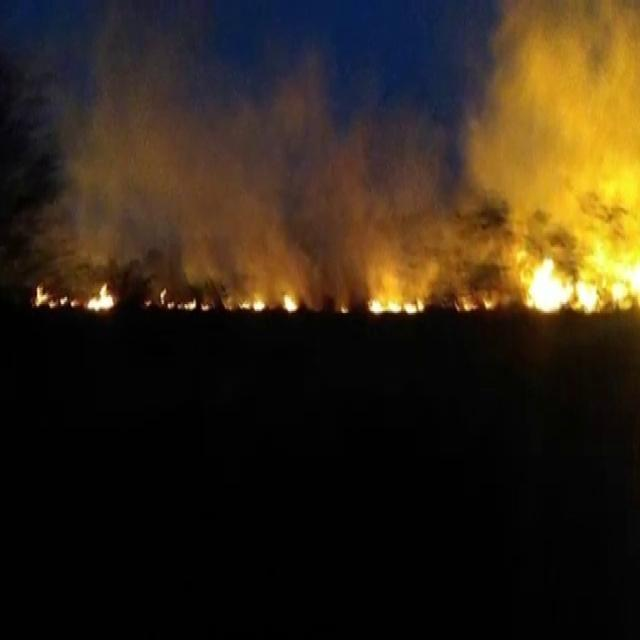Fire: (523, 245, 636, 318), (22, 276, 118, 319), (218, 278, 304, 322), (366, 277, 428, 319)
Smoke: (39, 0, 456, 257), (471, 0, 640, 244)
